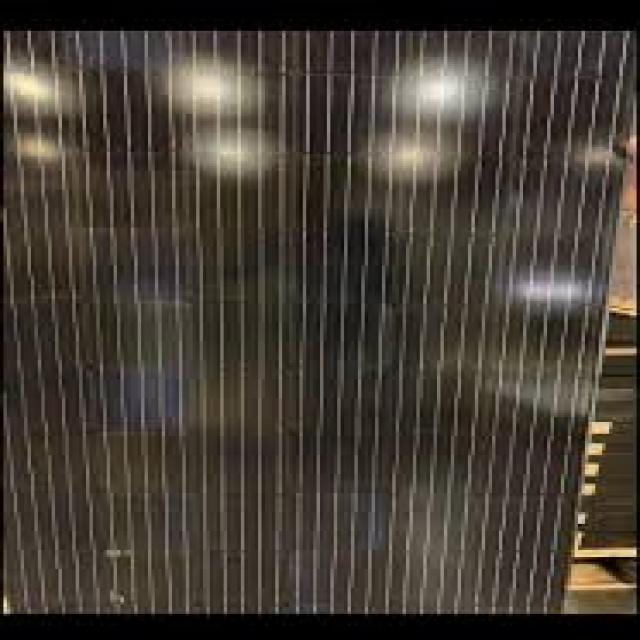faulty: (32, 16, 562, 640)
